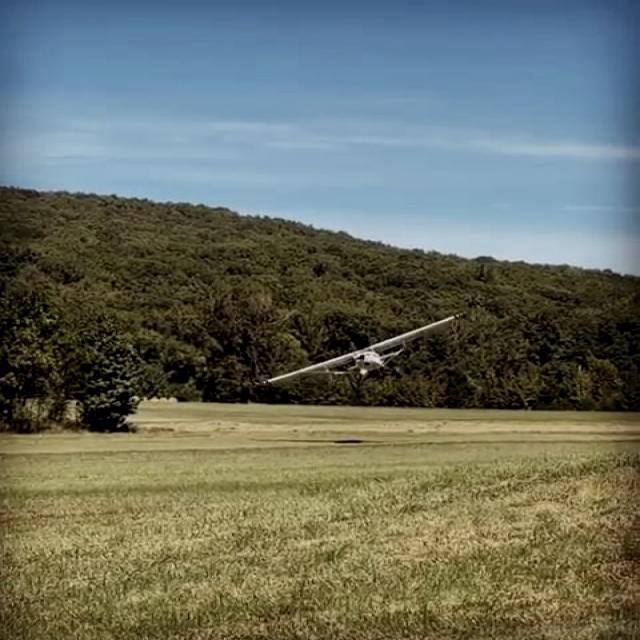iha: (260, 350, 456, 363)
